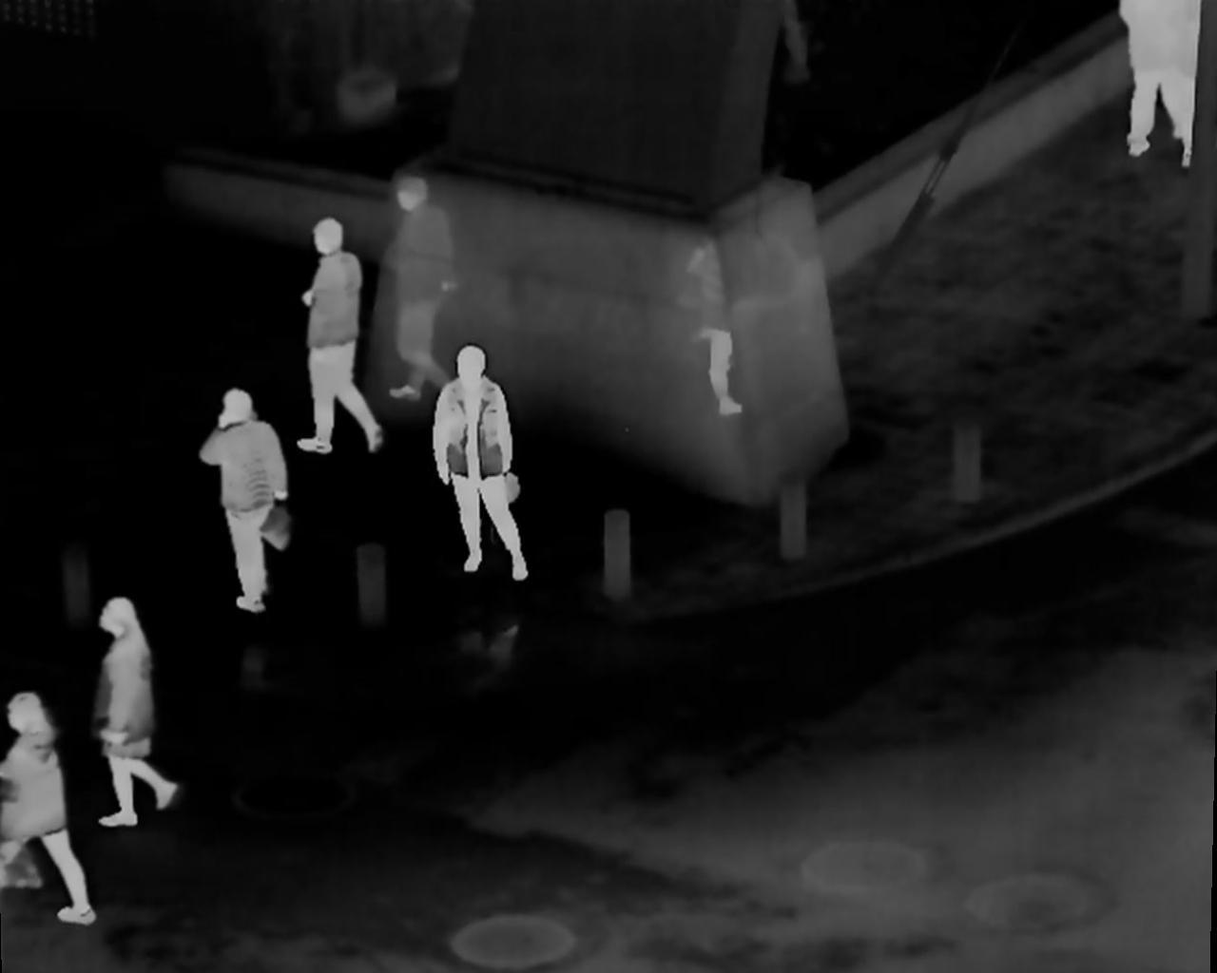person: (198, 386, 295, 613), (434, 343, 525, 581), (300, 213, 382, 457), (93, 590, 160, 832)
